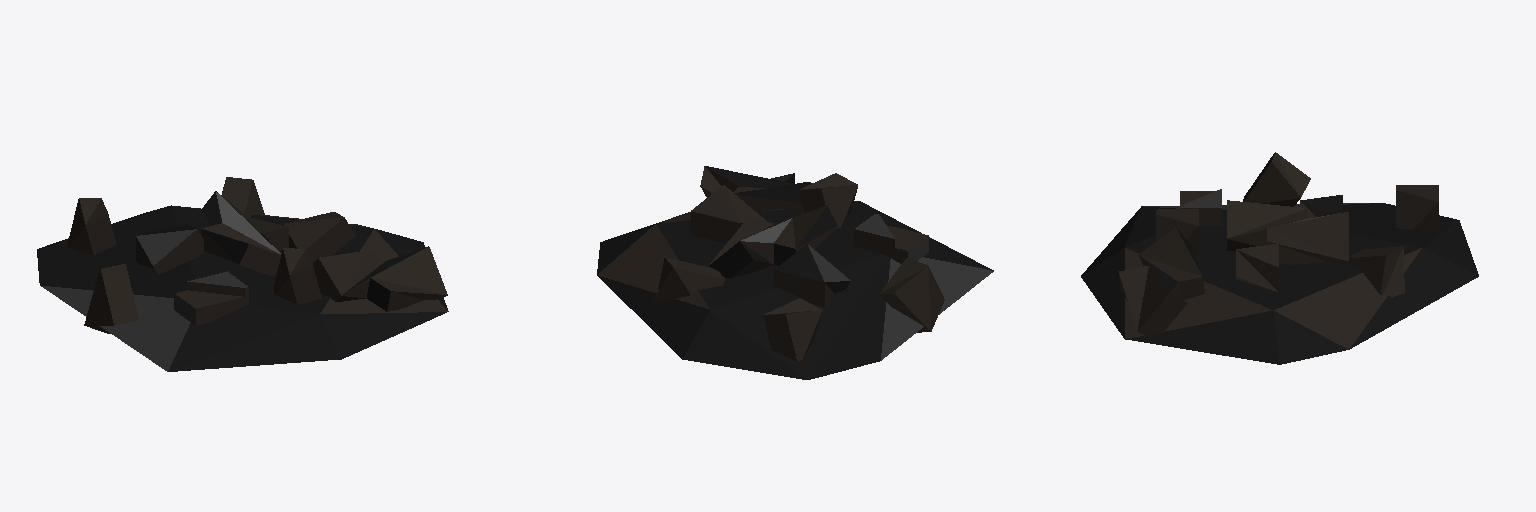
The model's file is rubble.obj.
3 renders of one model, left to right at view 1: azimuth 30°, elevation 25°; view 2: azimuth 150°, elevation 25°; view 3: azimuth 270°, elevation 25°, orthographic.
Visible parts, largest first — view 1: Mesh1 Model, Mesh8 Model, Mesh7 Model, Mesh9 Model, Mesh3 Model, Mesh4 Model, Mesh6 Model, Mesh2 Model, Mesh5 Model; view 2: Mesh1 Model, Mesh7 Model, Mesh8 Model, Mesh9 Model, Mesh3 Model, Mesh6 Model, Mesh4 Model, Mesh5 Model, Mesh2 Model; view 3: Mesh1 Model, Mesh7 Model, Mesh8 Model, Mesh9 Model, Mesh5 Model, Mesh6 Model, Mesh4 Model, Mesh2 Model, Mesh3 Model.
Part boxes in pixels (x1,y1,x2,y2): Mesh1 Model: (37, 205, 448, 371); Mesh8 Model: (313, 246, 447, 311); Mesh7 Model: (201, 191, 288, 275); Mesh9 Model: (84, 264, 138, 333); Mesh3 Model: (136, 224, 203, 274); Mesh4 Model: (283, 212, 355, 261); Mesh6 Model: (67, 198, 116, 254); Mesh2 Model: (273, 248, 321, 304); Mesh5 Model: (222, 177, 264, 216); Mesh1 Model: (597, 201, 993, 379); Mesh7 Model: (708, 205, 837, 278); Mesh8 Model: (700, 166, 812, 211); Mesh9 Model: (879, 258, 944, 332); Mesh3 Model: (774, 244, 850, 306); Mesh6 Model: (763, 298, 822, 361); Mesh4 Model: (691, 185, 766, 243); Mesh5 Model: (653, 257, 724, 303); Mesh2 Model: (799, 173, 857, 228); Mesh1 Model: (1081, 189, 1478, 364); Mesh7 Model: (1227, 200, 1348, 264); Mesh8 Model: (1119, 227, 1204, 337); Mesh9 Model: (1243, 152, 1310, 206); Mesh5 Model: (1349, 246, 1404, 297); Mesh6 Model: (1396, 185, 1438, 230); Mesh4 Model: (1236, 244, 1278, 291); Mesh2 Model: (1156, 209, 1198, 254); Mesh3 Model: (1300, 195, 1342, 218).
Size of the model in its own units: 24.27 by 5.74 by 25.